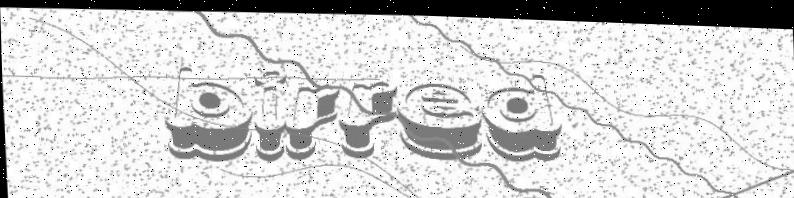b: (160, 61, 252, 162)
d: (480, 67, 563, 160)
e: (395, 77, 483, 159)
i: (251, 65, 285, 159)
r: (336, 76, 399, 158), (281, 80, 343, 161)
